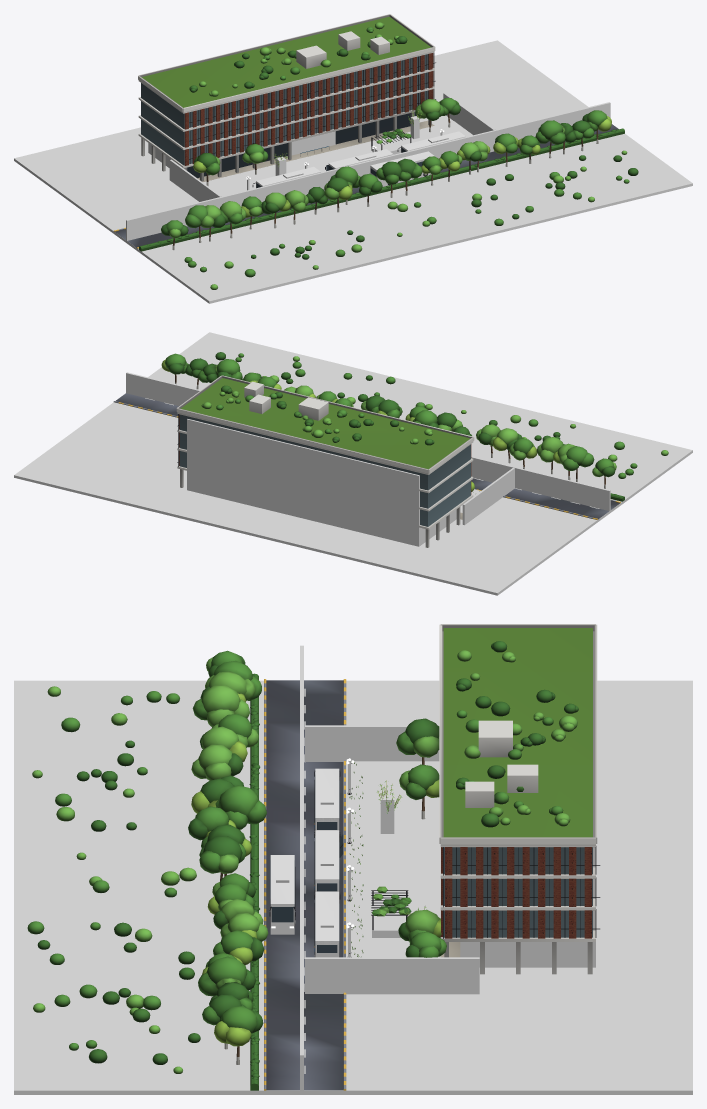
The model's file is zone_01_bus.glb.
3 renders of one model, top to bottom at view 1: azimuth 30°, elevation 25°; view 2: azimuth 150°, elevation 25°; view 3: azimuth 270°, elevation 25°, orthographic. The views are drawn at different scales.
Visible parts, largest first — view 1: COL_ground, ENV_buildings, ENV_vegetation, COL_bien_nam, COL_sidewalk, ENV_ground, ENV_cay_mai, COL_bien_tay, COL_bien_dong, COL_ban_do, xe_bus_mesh, ENV_xe_bus_dau_2 (+2 smaller); view 2: COL_ground, COL_toa_nha, ENV_buildings, ENV_vegetation, COL_bien_nam, ENV_ground, ENV_cay_mai, COL_bien_tay; view 3: COL_ground, ENV_buildings, ENV_vegetation, ENV_ground, COL_sidewalk, COL_bien_dong, ENV_cay_mai, COL_bien_tay, ENV_props, COL_toa_nha, COL_bien_nam, ENV_xe_bus_dau_3 (+4 smaller).
Part boxes in pixels (box(x1,y1,x2,y2)): COL_ground: box(14, 40, 692, 303); ENV_buildings: box(138, 14, 435, 181); ENV_vegetation: box(139, 98, 638, 289); COL_bien_nam: box(126, 102, 610, 240); COL_sidewalk: box(203, 121, 472, 196); ENV_ground: box(115, 120, 618, 247); ENV_cay_mai: box(189, 22, 407, 96); COL_bien_tay: box(169, 159, 221, 201); COL_bien_dong: box(443, 93, 495, 135); COL_ban_do: box(291, 131, 335, 155); xe_bus_mesh: box(325, 149, 393, 170); ENV_xe_bus_dau_2: box(397, 131, 465, 152); COL_ground: box(14, 332, 692, 595); COL_toa_nha: box(187, 419, 456, 546); ENV_buildings: box(176, 375, 474, 547); ENV_vegetation: box(161, 352, 668, 501); COL_bien_nam: box(126, 372, 610, 510); ENV_ground: box(116, 393, 619, 519); ENV_cay_mai: box(201, 385, 434, 445); COL_bien_tay: box(462, 468, 514, 525); COL_ground: box(14, 680, 692, 1094); ENV_buildings: box(439, 624, 600, 974); ENV_vegetation: box(27, 650, 446, 1090); ENV_ground: box(266, 680, 460, 1090); COL_sidewalk: box(343, 761, 440, 957); COL_bien_dong: box(305, 957, 479, 994); ENV_cay_mai: box(456, 641, 578, 827); COL_bien_tay: box(305, 725, 439, 761); ENV_props: box(264, 679, 411, 1090); COL_toa_nha: box(460, 847, 595, 967); COL_bien_nam: box(300, 645, 303, 1090); ENV_xe_bus_dau_3: box(269, 855, 295, 928).
Size of the model in its own units: 100 by 18.2 by 70.
Materials: 5 (2 with a texture image).
